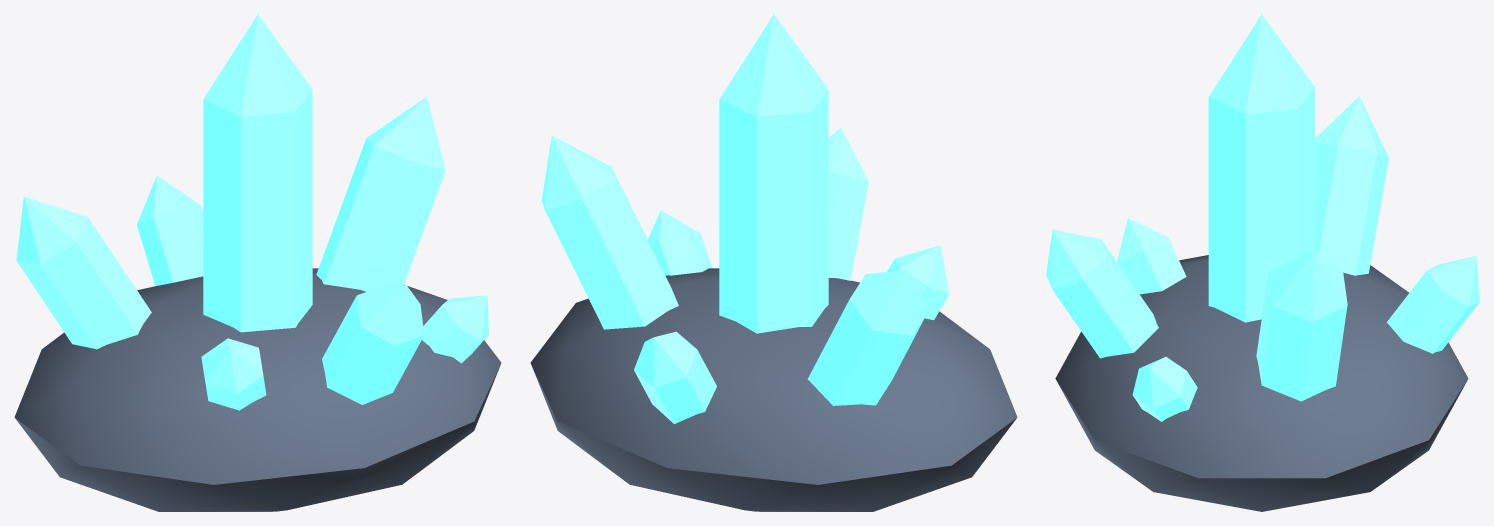
Rendered from crystal_cluster.glb.
3 views of the same model, side by side, from view 1: azimuth 30°, elevation 25°; view 2: azimuth 150°, elevation 25°; view 3: azimuth 270°, elevation 25° (orthographic). The views are drawn at different scales.
Parts seen in each view (by area): view 1: crystal_cluster; view 2: crystal_cluster; view 3: crystal_cluster.
Boxes of the visible parts, left/top/right/bottom form: crystal_cluster: left=14, top=14, right=501, bottom=511; crystal_cluster: left=530, top=14, right=1017, bottom=511; crystal_cluster: left=1046, top=14, right=1479, bottom=511.
Bounding box in the file's own units: 0.8674 × 0.911 × 0.7981.
